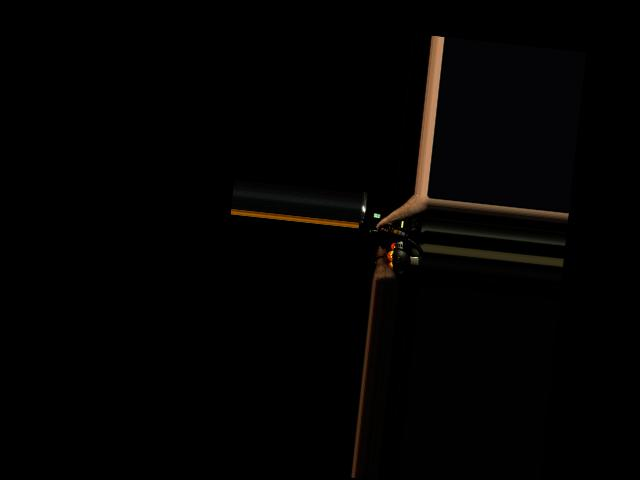beer: (375, 222, 409, 238)
